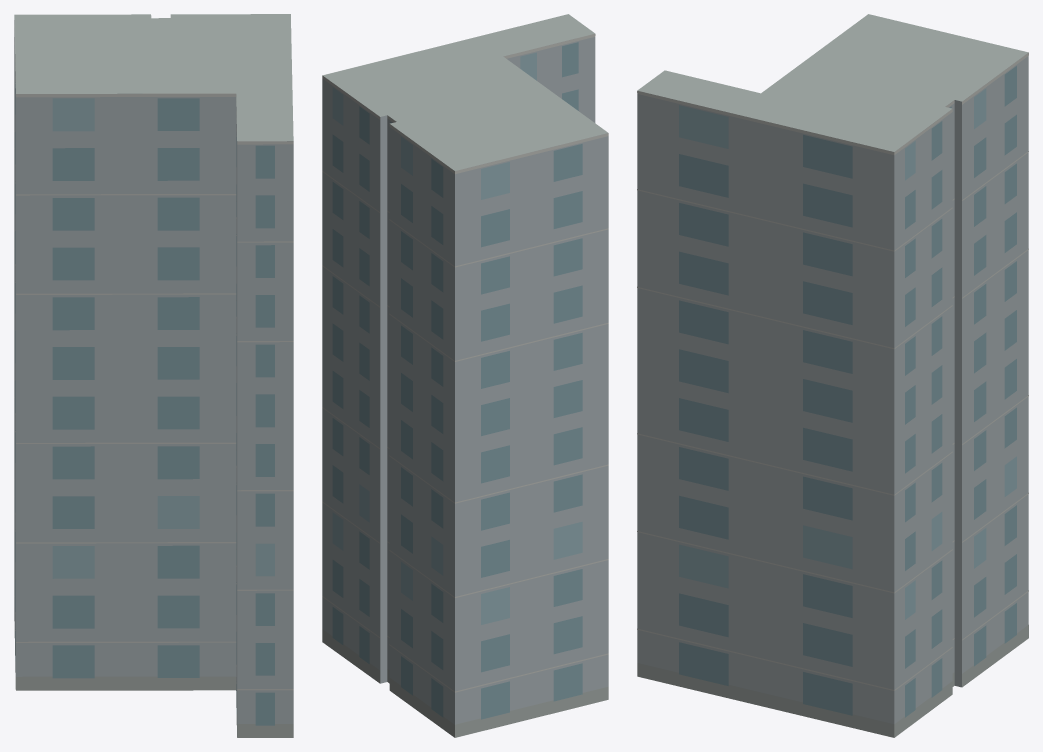
The model's file is survey-upis-32738955.glb.
The picture shows the model from 3 angles, left to right: view 1: azimuth 30°, elevation 25°; view 2: azimuth 150°, elevation 25°; view 3: azimuth 270°, elevation 25°; orthographic projection. The views are drawn at different scales.
Parts seen in each view (by area): view 1: survey-upis-32738955.tmp; view 2: survey-upis-32738955.tmp; view 3: survey-upis-32738955.tmp.
Part boxes in pixels (<box>): survey-upis-32738955.tmp: <box>14,14,293,737</box>; survey-upis-32738955.tmp: <box>322,14,608,737</box>; survey-upis-32738955.tmp: <box>637,14,1028,737</box>.
Bounding box in the file's own units: 22.15 × 43.8 × 26.55.
